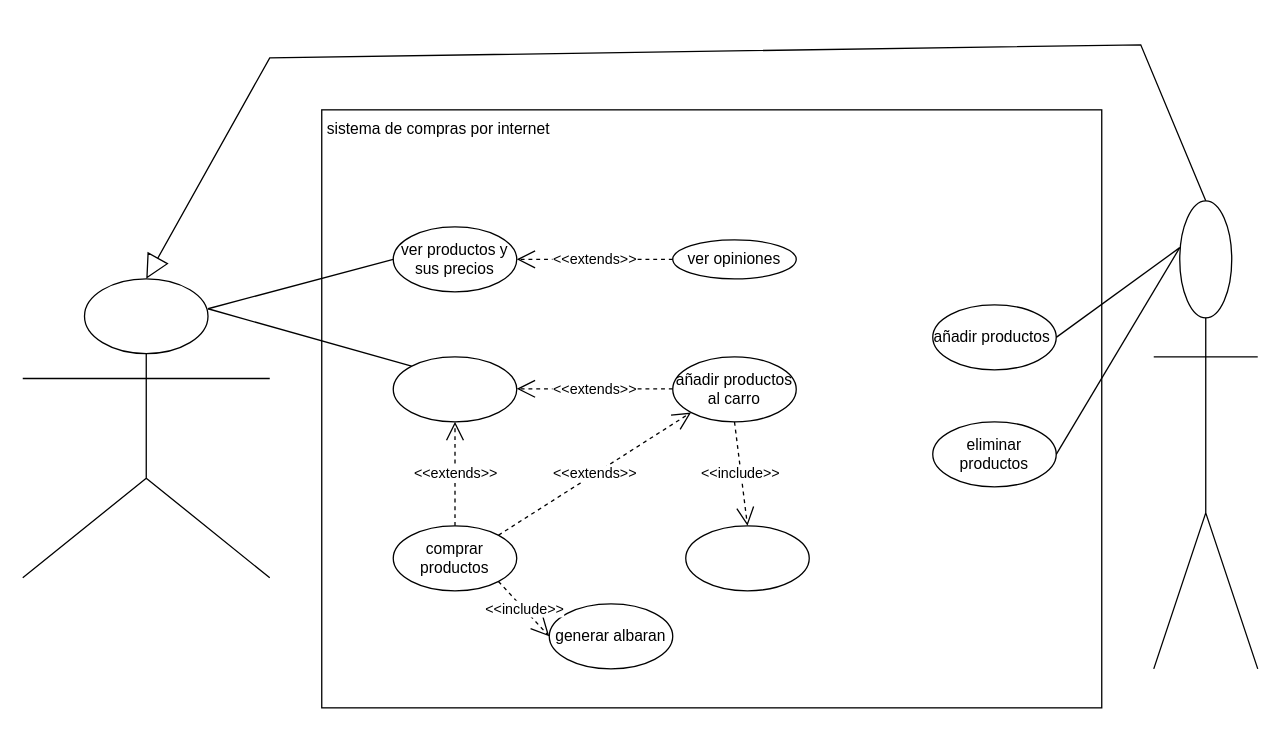
Image size: 1281x731. Some labels were removed from this diagram. The shapes that lost their labels are listed below. From the top down, each one's box as (x1, y1, x2, y2) in pixels, then its label:
(392, 356, 517, 422): identificarse
(21, 278, 270, 578): Usuario
(1152, 200, 1258, 669): Administrador
(684, 525, 809, 591): guardar productos
